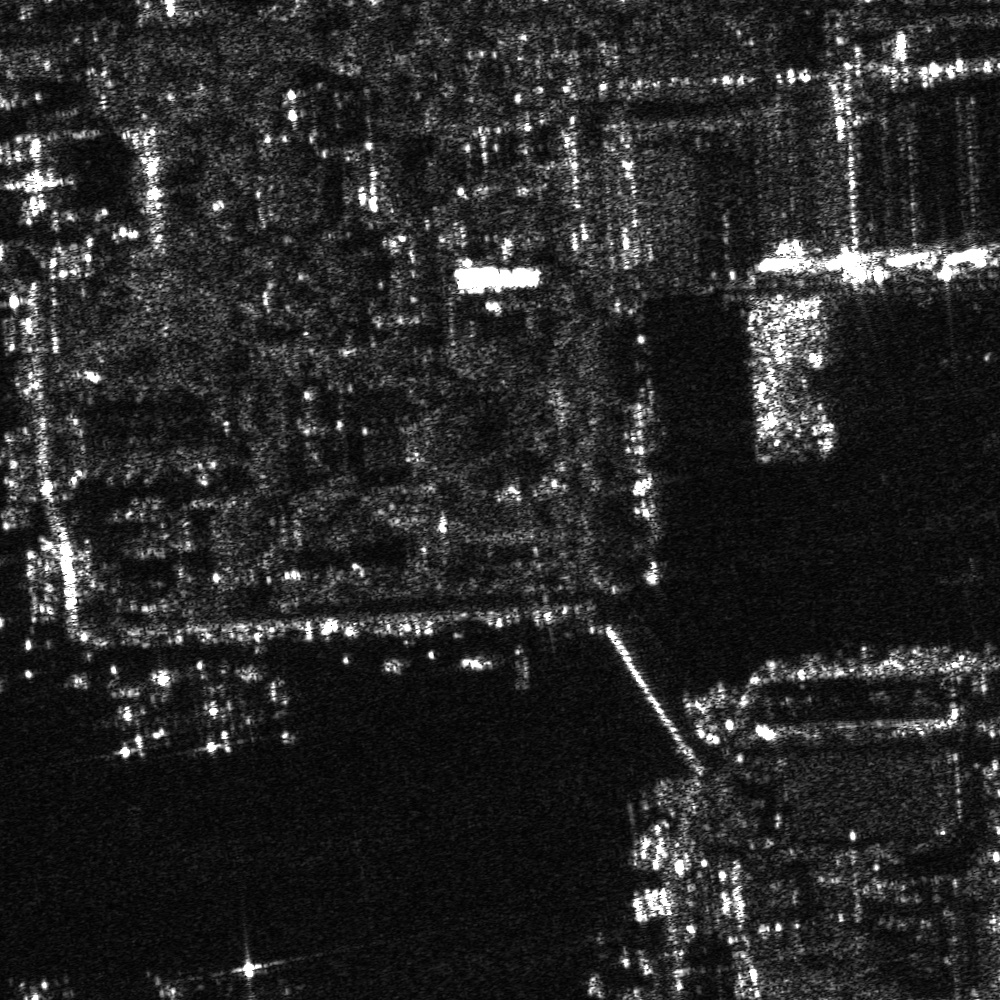ARJ21: (257, 663, 300, 745)
Boeing737: (92, 676, 180, 762)
other: (189, 672, 255, 755), (147, 974, 195, 999), (17, 978, 65, 999)
